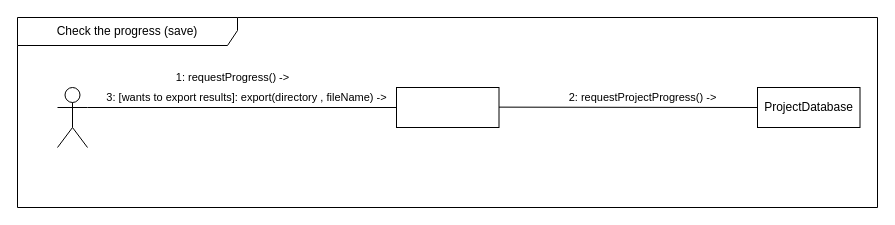
This 895x225 diagram has some shape labels left out. The shapes that lost their labels are listed below. From the top down, each one's centre as x and y in pixels, then its label:
At [72,117]: "Project manager".
At [447,107]: "System".
